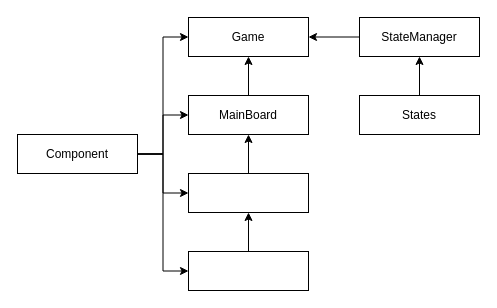
Some shapes in this 497 by 308 pixel diagram are drawn without their labels. Here are the shapes that lost their labels. From the top down, the centre of each, then its label:
At point (248, 192): "SubBoard".
At point (248, 270): "Tile".
